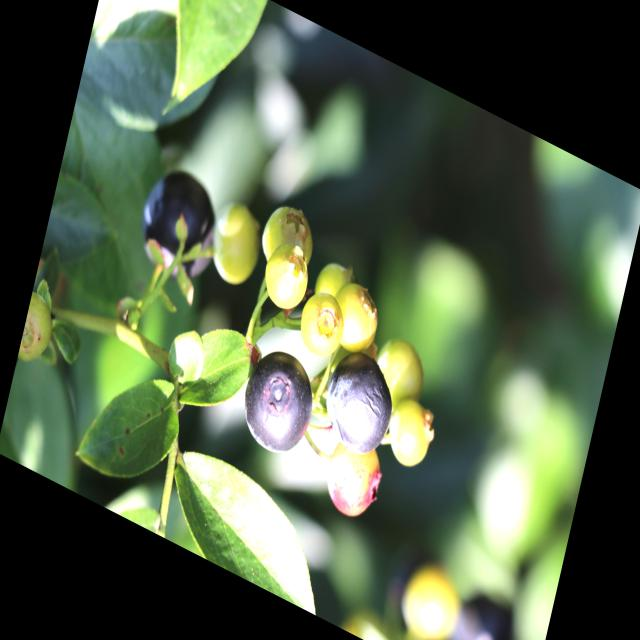blueberry: (130, 152, 231, 299), (315, 336, 405, 469), (237, 337, 319, 467)
blueberry-halfripe: (319, 431, 386, 531)
blueberry-unripe: (369, 329, 434, 417), (208, 199, 268, 294), (256, 199, 321, 284), (324, 274, 384, 364), (291, 284, 350, 369), (384, 392, 439, 478), (258, 242, 314, 321), (17, 288, 56, 370), (314, 248, 359, 310)
